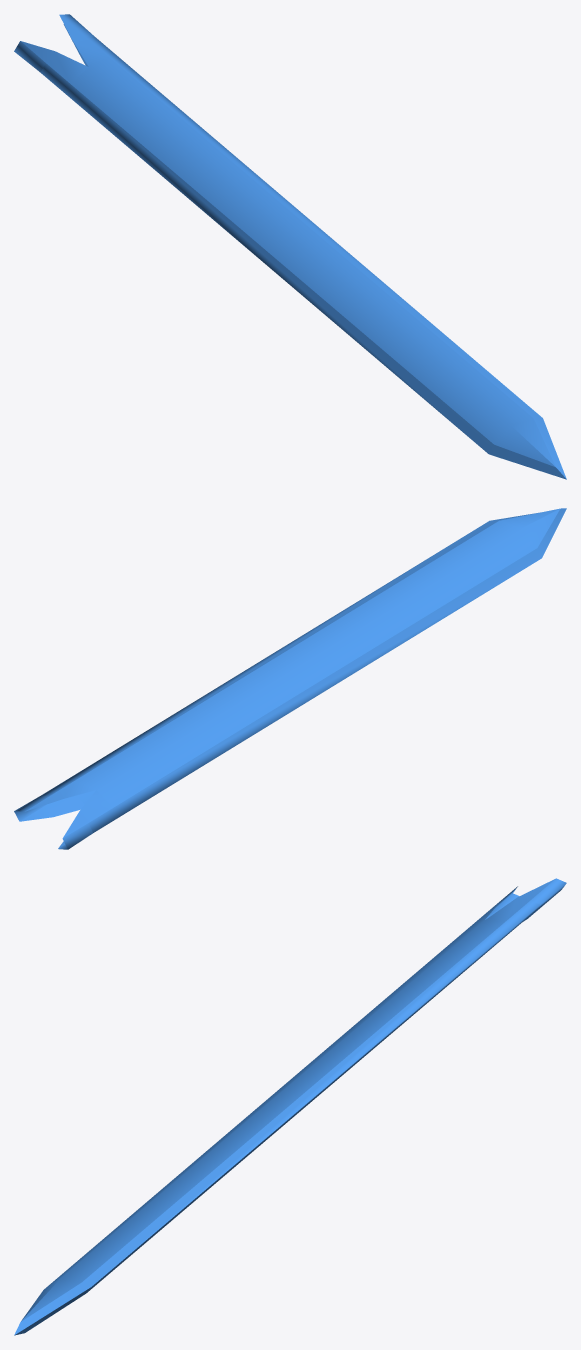
File: Striker_Blade.fbx
3 views of the same model, one above another, from view 1: azimuth 30°, elevation 25°; view 2: azimuth 150°, elevation 25°; view 3: azimuth 330°, elevation 25° (orthographic).
Visible parts, largest first — view 1: Striker_Blade; view 2: Striker_Blade; view 3: Striker_Blade.
Boxes of the visible parts, left/top/right/bottom form: Striker_Blade: left=14, top=14, right=566, bottom=479; Striker_Blade: left=14, top=508, right=566, bottom=849; Striker_Blade: left=14, top=878, right=566, bottom=1335.
Bounding box in the file's own units: 10.13 × 14.82 × 168.
1 material, 1 textured.
